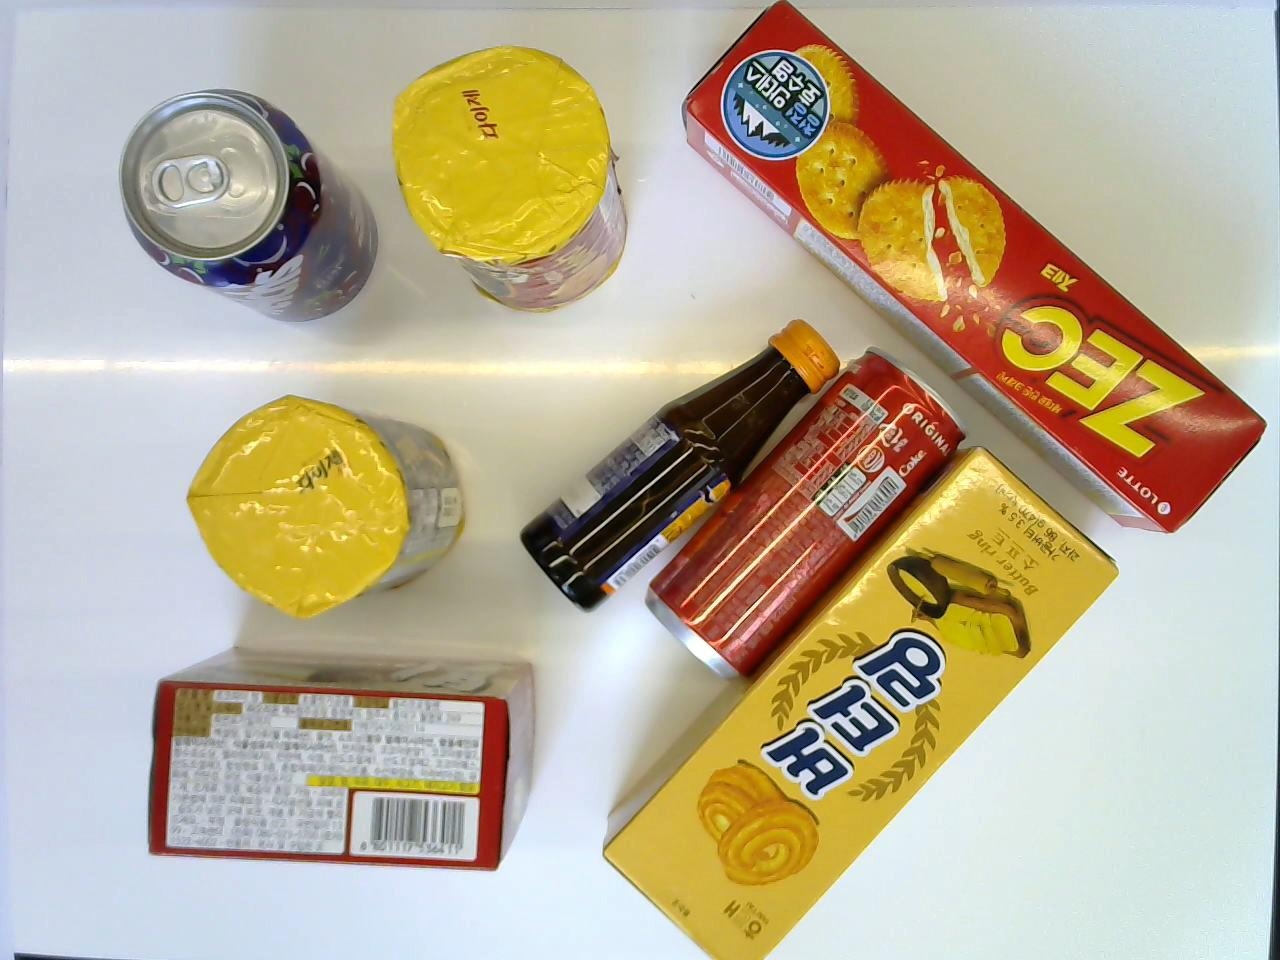buttering: (601, 442, 1118, 955)
chocopie: (144, 649, 536, 871)
coke: (640, 346, 964, 685)
diget_choco: (185, 394, 466, 620)
diget_ori: (389, 46, 630, 316)
vita500: (515, 308, 838, 612)
welchs: (119, 89, 378, 325)
zec: (682, 0, 1266, 536)
